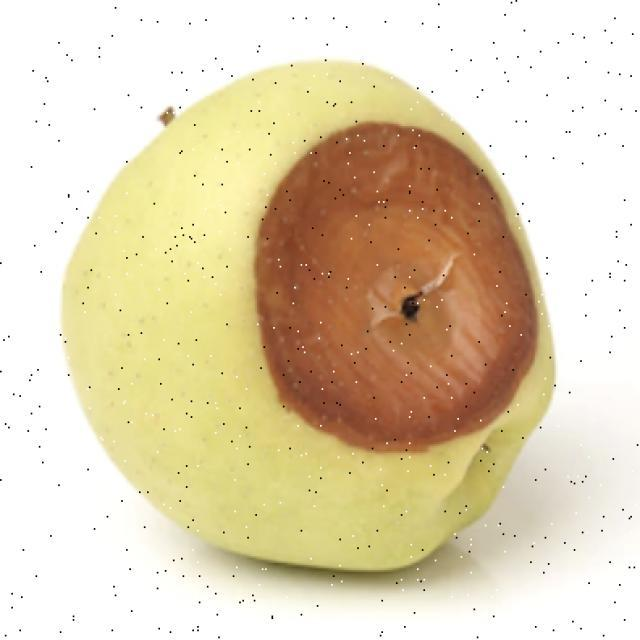Rotten: (100, 84, 563, 588)
